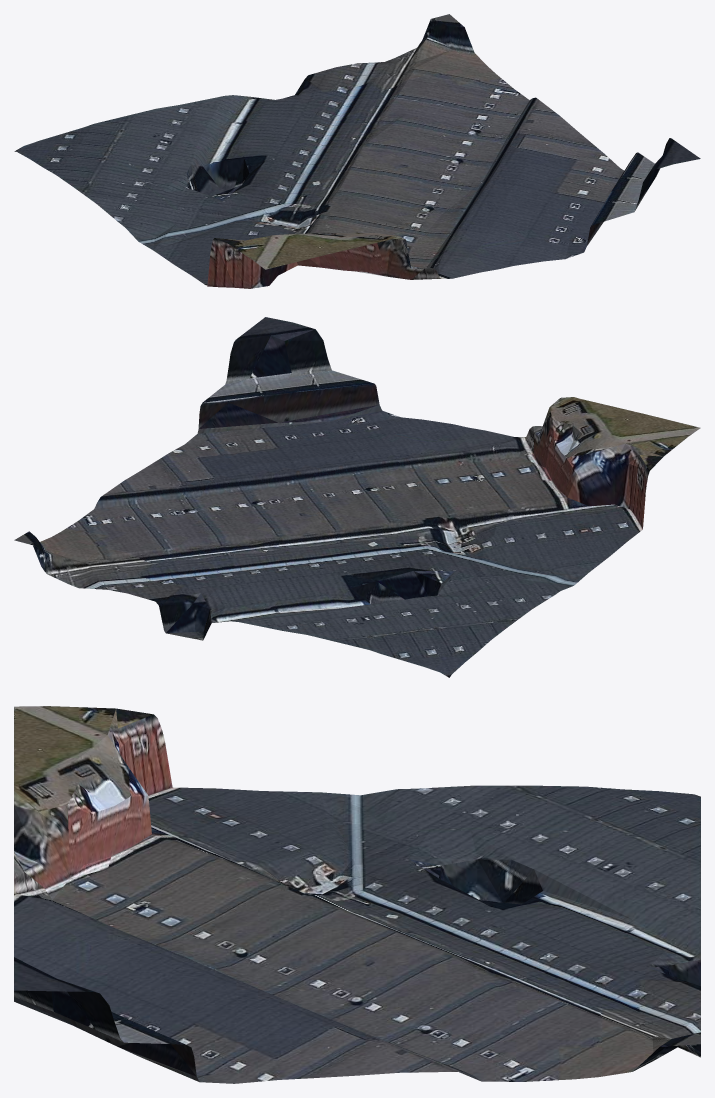
The model's file is map_15_8182_13782.dae.
The picture shows the model from 3 angles, top to bottom: view 1: azimuth 30°, elevation 25°; view 2: azimuth 150°, elevation 25°; view 3: azimuth 270°, elevation 25°; orthographic projection. The views are drawn at different scales.
Visible parts, largest first — view 1: Ter0; view 2: Ter0; view 3: Ter0.
Boxes of the visible parts, box(x1,y1,x2,y2) form: Ter0: box(14, 14, 700, 288); Ter0: box(14, 317, 700, 677); Ter0: box(14, 706, 700, 1083).
Bounding box in the file's own units: 63.88 × 63.88 × 13.74.
2 materials, 2 textured.
